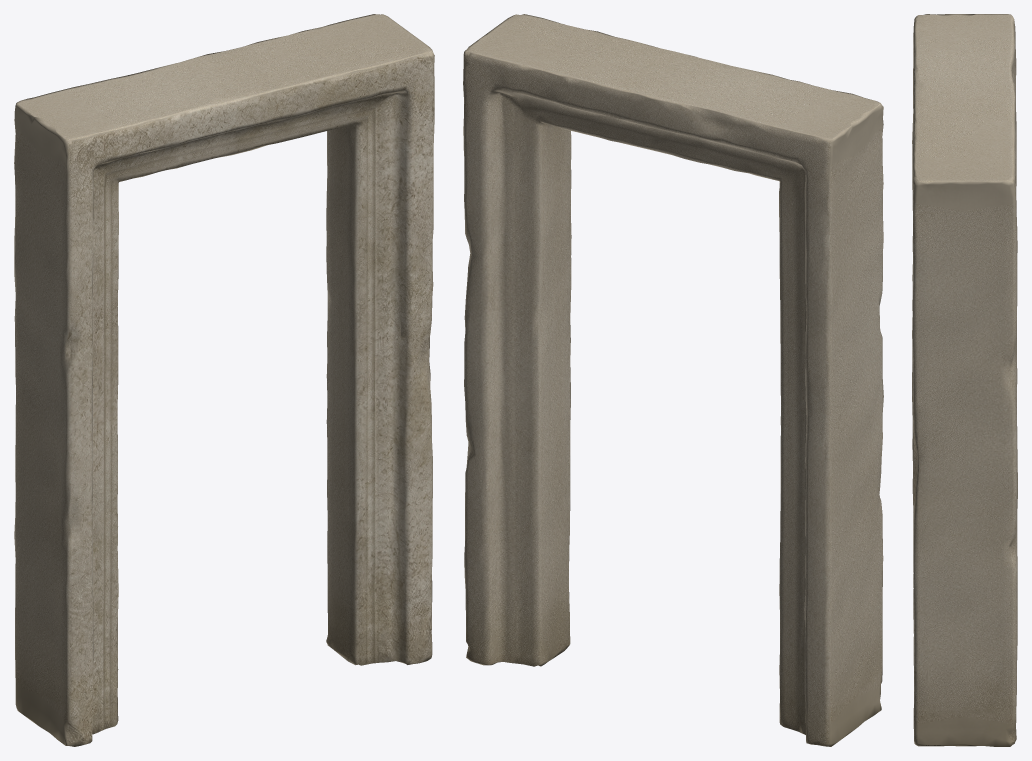
File: Meshy_AI_a_door_frame_0903105906_texture.glb
3 views of the same model, side by side, from view 1: azimuth 30°, elevation 25°; view 2: azimuth 150°, elevation 25°; view 3: azimuth 270°, elevation 25° (orthographic). The views are drawn at different scales.
Parts seen in each view (by area): view 1: mesh_node; view 2: mesh_node; view 3: mesh_node.
Boxes of the visible parts, x1,y1,x2,y2 form: mesh_node: (14,14,434,746); mesh_node: (463,14,883,746); mesh_node: (912,14,1017,746).
Bounding box in the file's own units: 0.6367 × 1 × 0.1694.
1 material, 1 textured.
